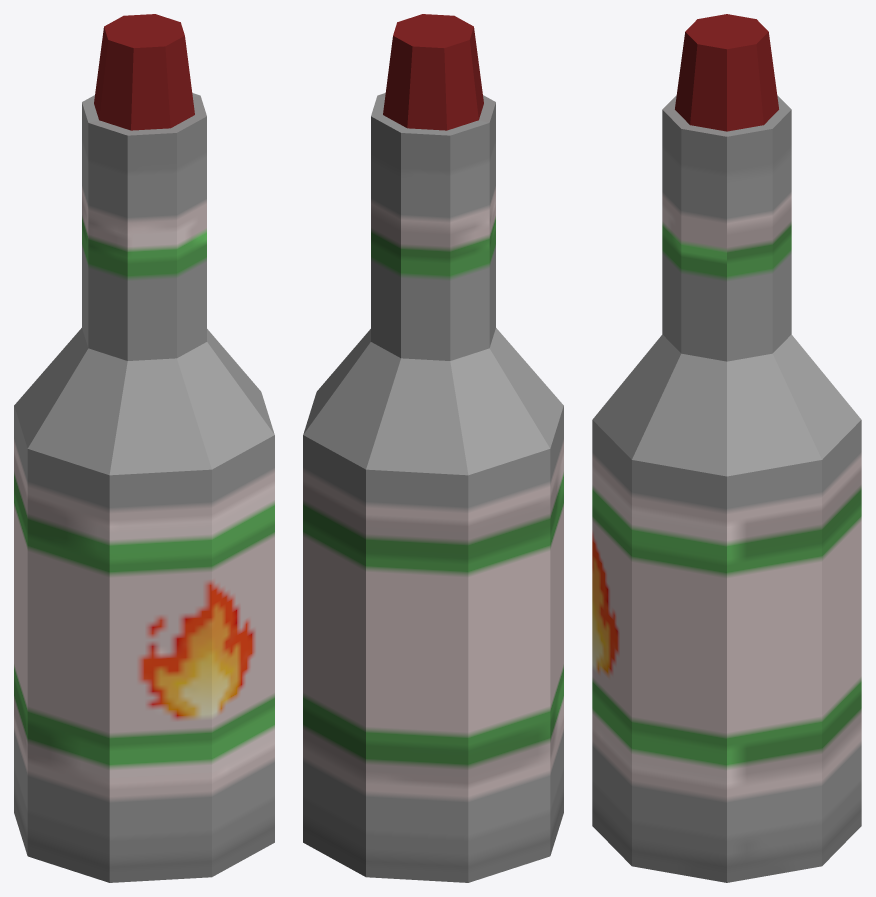
The model's file is HotSauce.fbx.
3 renders of one model, left to right at view 1: azimuth 30°, elevation 25°; view 2: azimuth 150°, elevation 25°; view 3: azimuth 270°, elevation 25°, orthographic.
Parts seen in each view (by area): view 1: HOTSAUCE; view 2: HOTSAUCE; view 3: HOTSAUCE.
Part boxes in pixels (bbox=[...]): HOTSAUCE: bbox=[14, 14, 274, 882]; HOTSAUCE: bbox=[303, 14, 563, 882]; HOTSAUCE: bbox=[592, 14, 861, 882].
Bounding box in the file's own units: 60 × 195 × 60.
